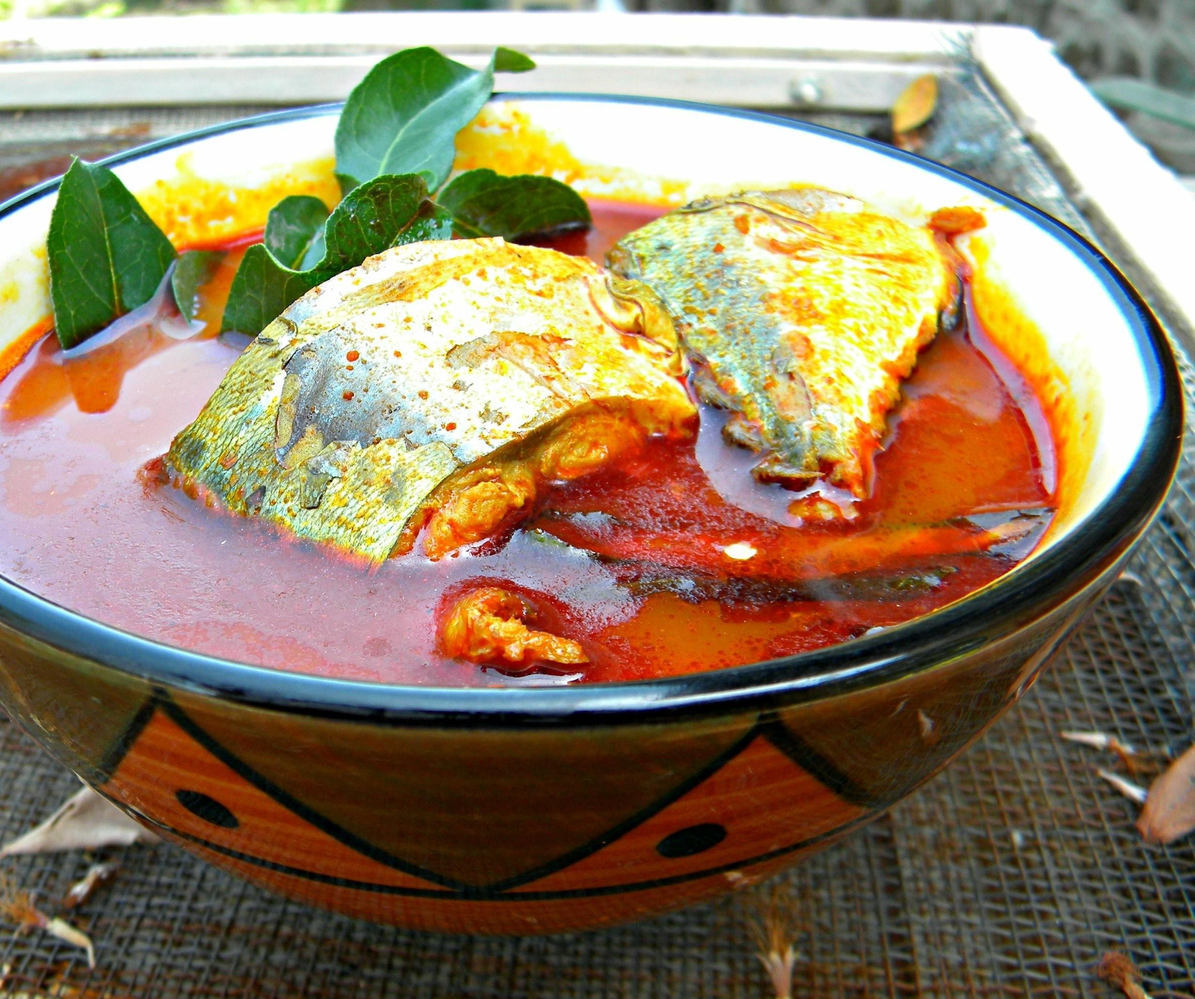FishCurry: (0, 198, 1066, 699)
